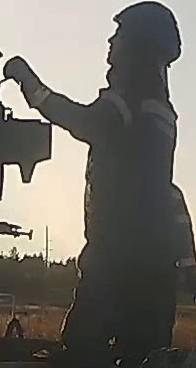gloves: (3, 54, 56, 112)
helmet: (109, 3, 180, 49)
vest: (81, 92, 178, 238)
